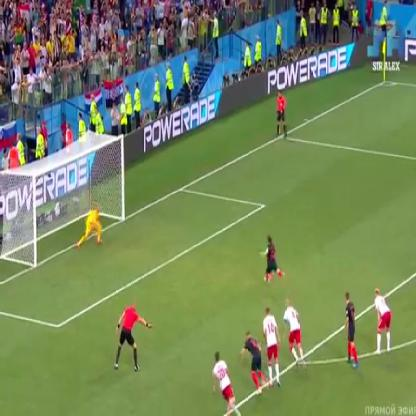penalty kick: (9, 163, 297, 299)
